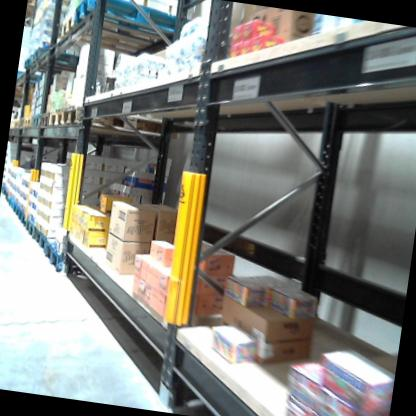pallet: (58, 0, 186, 57), (72, 0, 196, 50), (57, 98, 177, 146), (24, 48, 94, 82), (27, 41, 96, 75), (39, 241, 104, 275), (35, 222, 51, 257), (22, 213, 41, 238), (48, 104, 65, 130), (38, 110, 52, 132), (29, 110, 42, 132), (8, 203, 20, 224), (22, 112, 33, 133), (17, 207, 27, 230)
